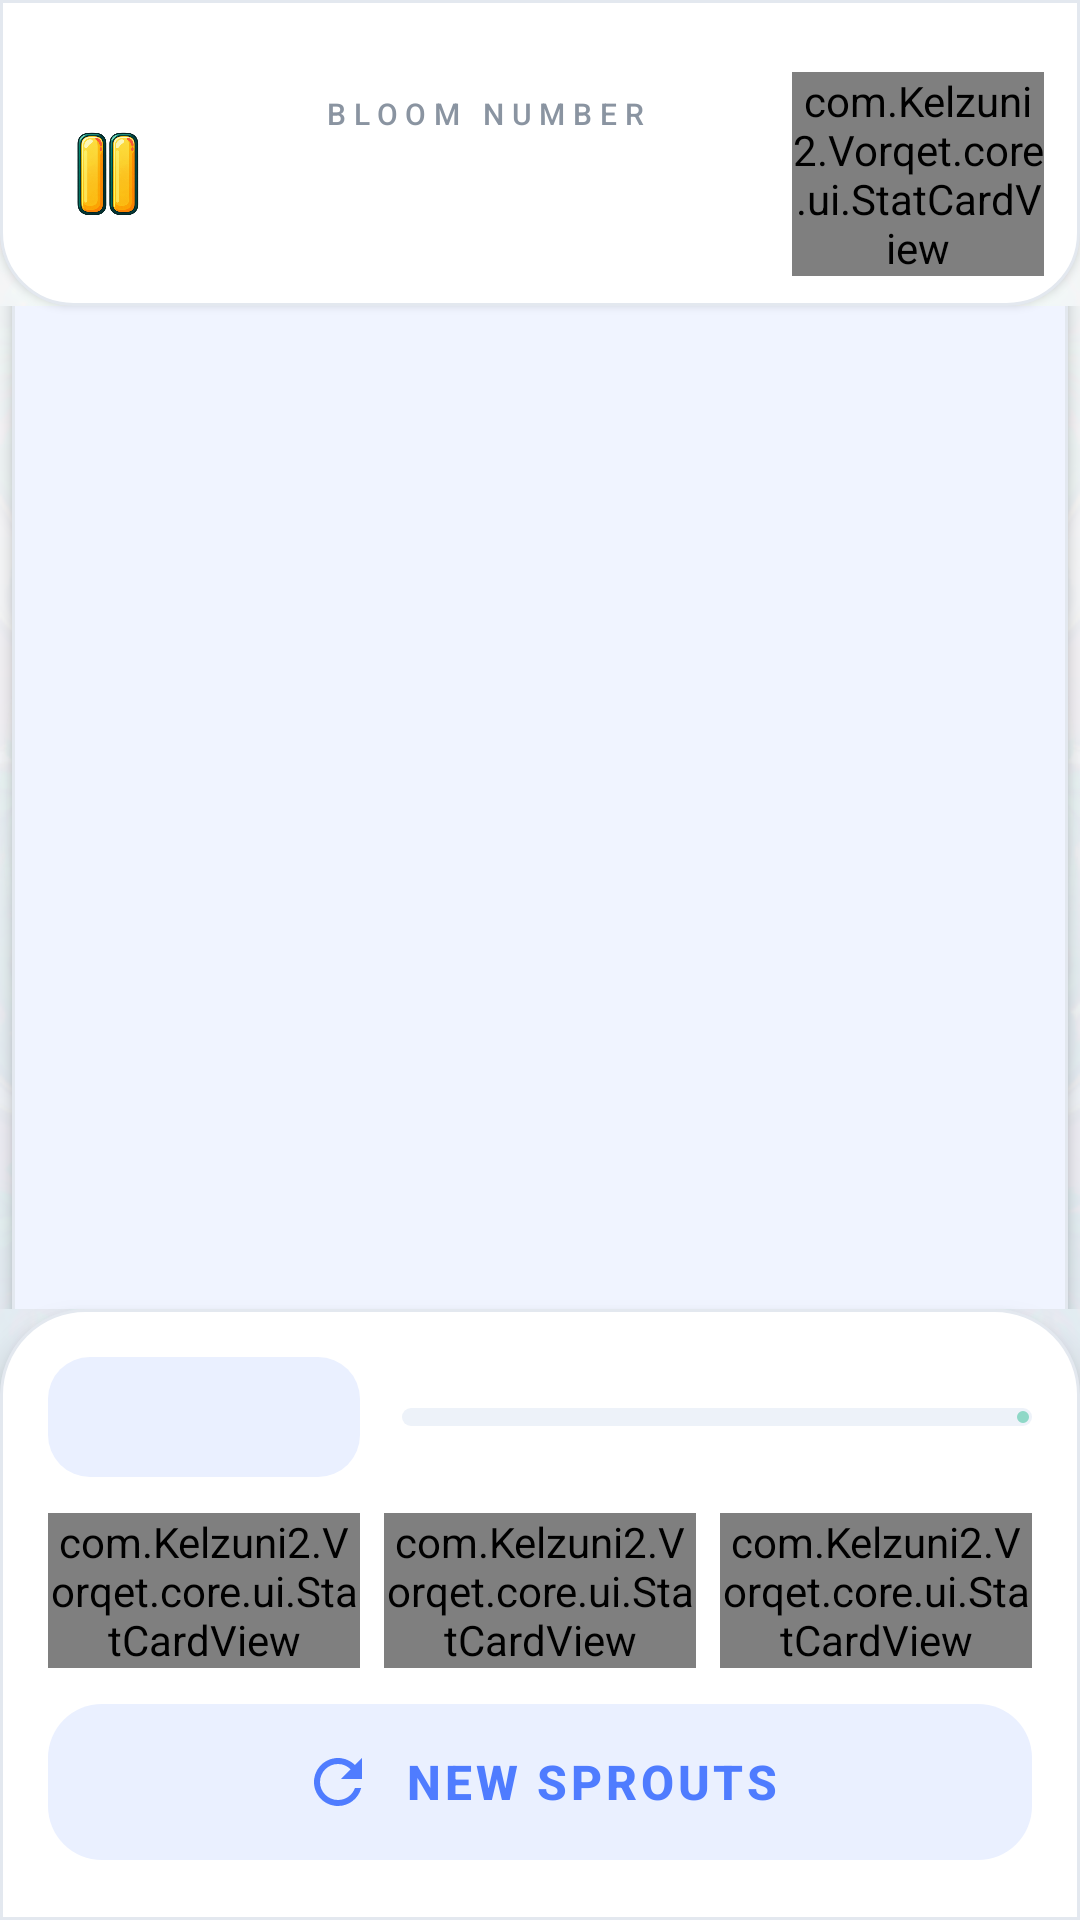

Locate icon controls on the screen. Image size 1080x1920, boxes as (x1, y1, x2, y2).
Pause the session: (77, 132, 139, 215)
